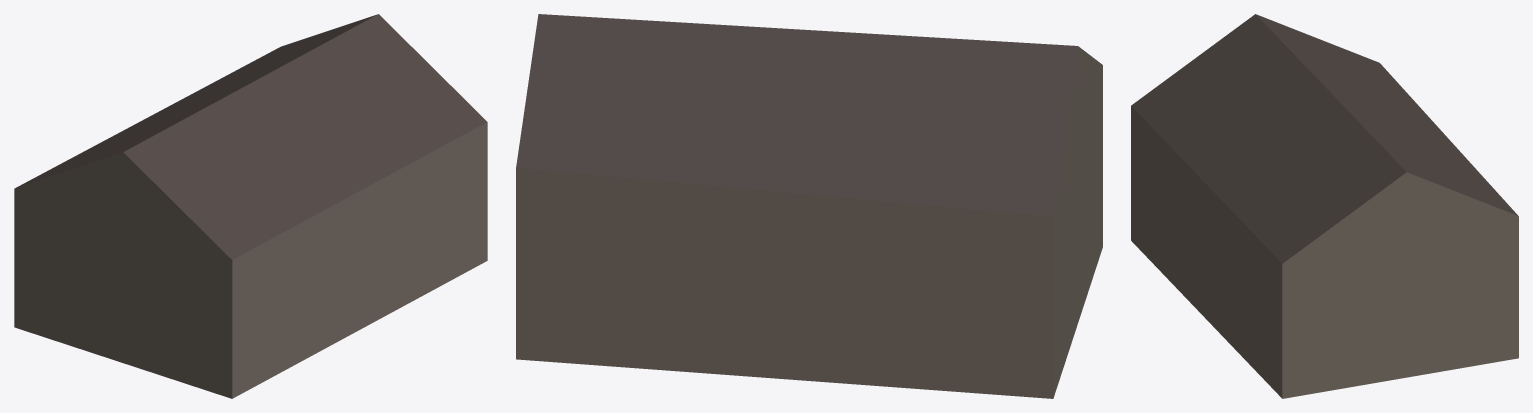
3 views of the same model, side by side, from view 1: azimuth 30°, elevation 25°; view 2: azimuth 150°, elevation 25°; view 3: azimuth 270°, elevation 25° (orthographic). The views are drawn at different scales.
Visible parts, largest first — view 1: HP-w1512468496; view 2: HP-w1512468496; view 3: HP-w1512468496.
Part boxes in pixels (left/top/right/bottom): HP-w1512468496: left=14, top=14, right=487, bottom=398; HP-w1512468496: left=516, top=14, right=1102, bottom=398; HP-w1512468496: left=1131, top=14, right=1518, bottom=398.
Size of the model in its own units: 28.71 by 13.68 by 23.41.
